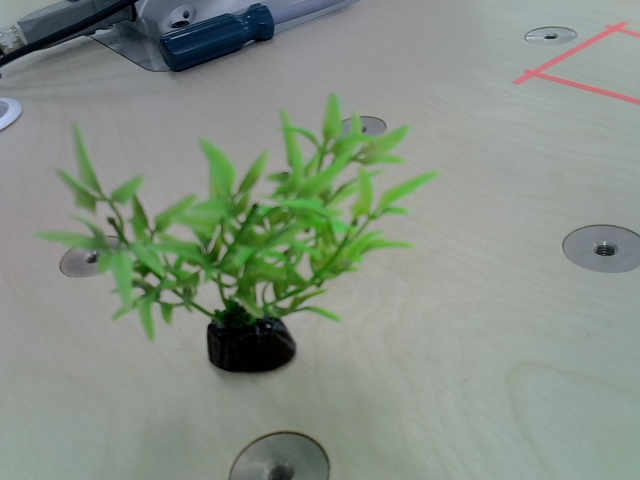튤립새싹: (36, 90, 434, 376)
